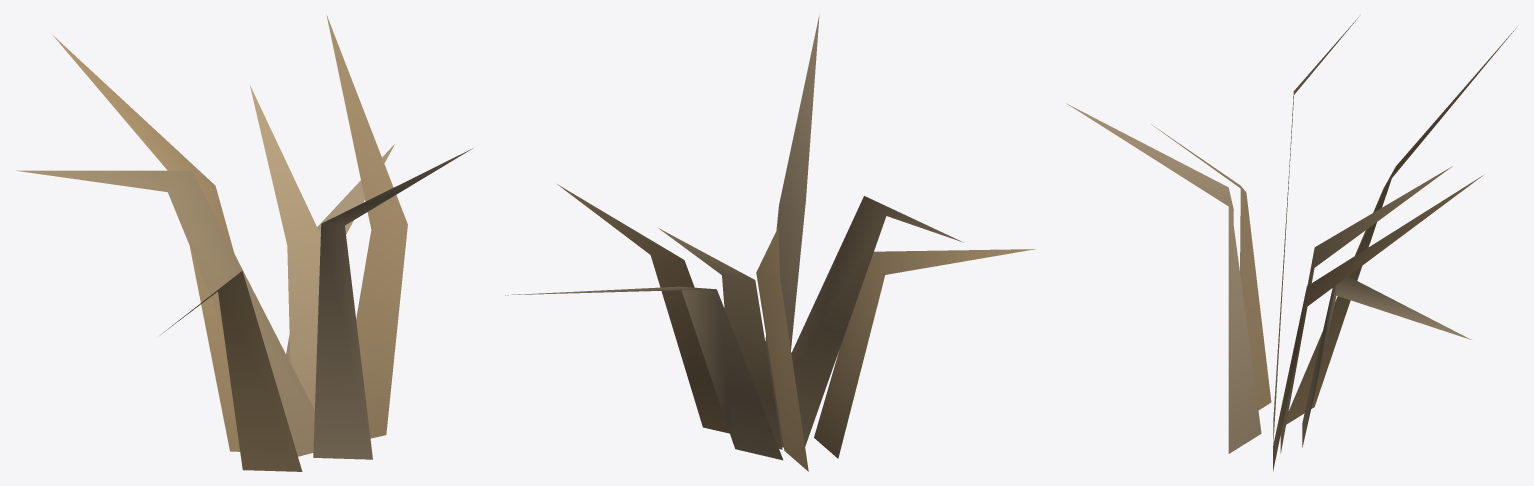
Rendered from Grass_g_TwoS_03.fbx.
3 views of the same model, side by side, from view 1: azimuth 30°, elevation 25°; view 2: azimuth 150°, elevation 25°; view 3: azimuth 270°, elevation 25° (orthographic). The views are drawn at different scales.
Parts seen in each view (by area): view 1: Grass_g_TwoS_03; view 2: Grass_g_TwoS_03; view 3: Grass_g_TwoS_03.
Part boxes in pixels (x1,y1,x2,y2): Grass_g_TwoS_03: [16, 15, 472, 471]; Grass_g_TwoS_03: [505, 14, 1035, 471]; Grass_g_TwoS_03: [1066, 17, 1517, 471].
Bounding box in the file's own units: 54.84 × 44.34 × 50.61.
